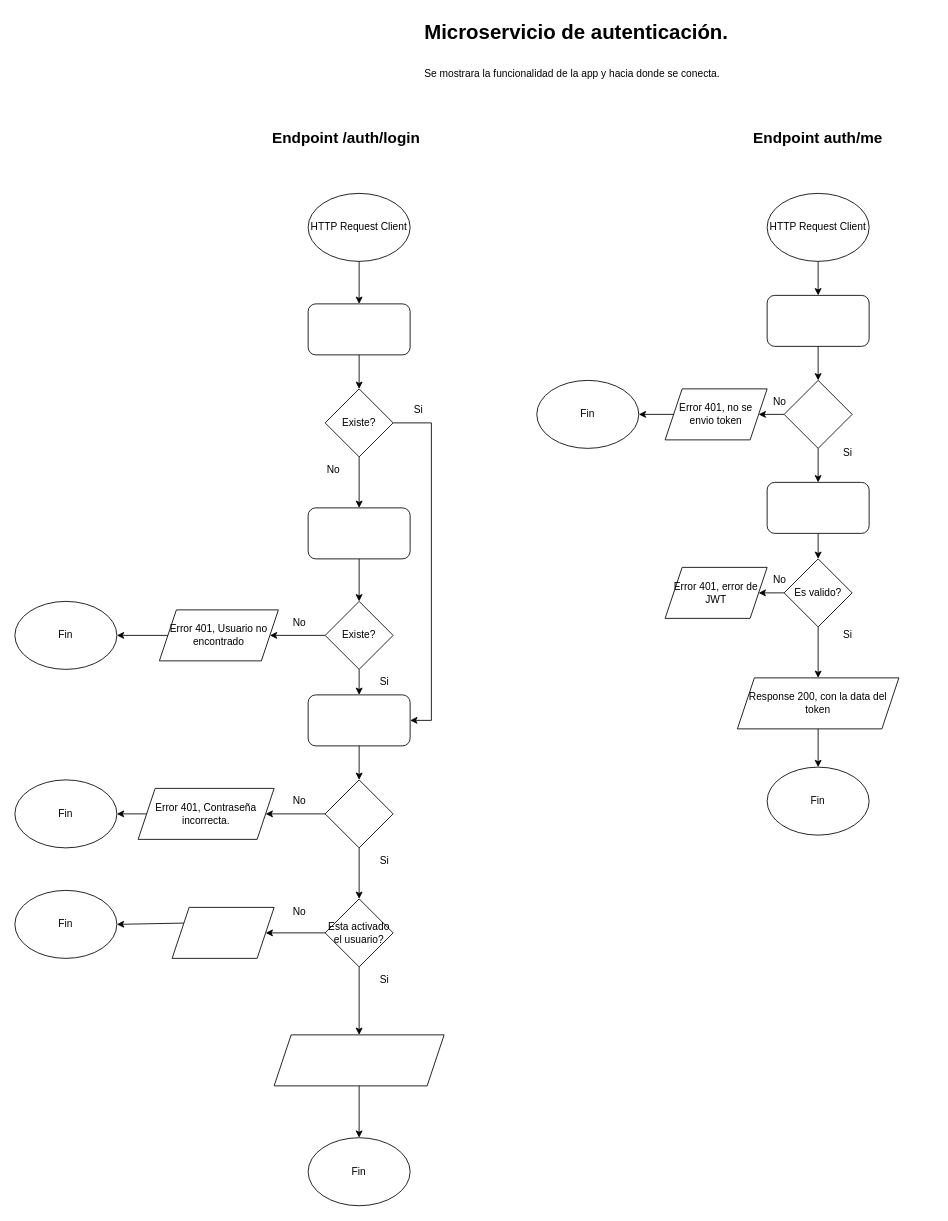
This 948x1221 diagram has some shape labels left out. Here are the shapes that lost their labels. From the top down, the centre of each, then its label:
At point (358, 329): "Verifica que el usuario exista en redis".
At point (817, 320): "Verifica el token en un middleware".
At point (817, 414): "Se envio token?".
At point (817, 507): "Decodificamos el token".
At point (358, 533): "Petición HTTP al microservicio de usuarios buscando el usuario".
At point (358, 720): "Compara las contraseñas del usuario".
At point (358, 813): "Son iguales?".
At point (222, 932): "Error 401, Usuario inactivo.".
At point (358, 1060): "Response 200, con el token de acceso.".
